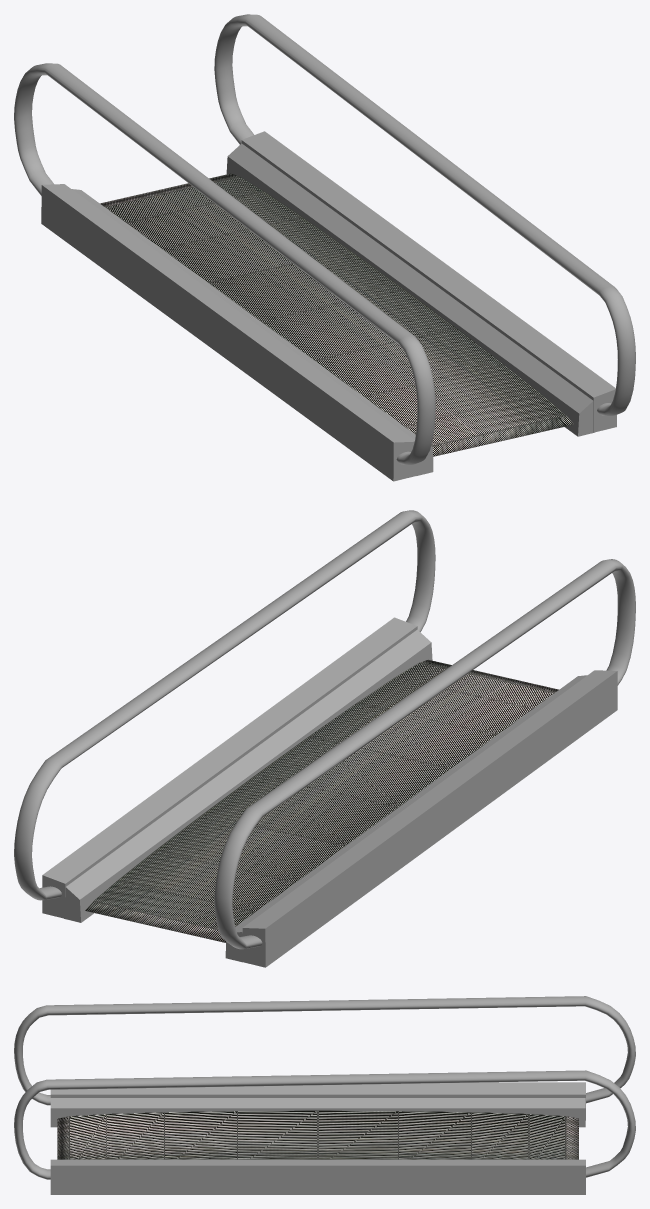
The model's file is Escalator2.fbx.
The picture shows the model from 3 angles, top to bottom: view 1: azimuth 30°, elevation 25°; view 2: azimuth 150°, elevation 25°; view 3: azimuth 270°, elevation 25°; orthographic projection. The views are drawn at different scales.
Visible parts, largest first — view 1: pCylinder1, pCube4, pCylinder2, pCylinder3, pCube1, pCube3, pCube2; view 2: pCylinder1, pCube4, pCylinder2, pCylinder3, pCube1, pCube3, pCube2; view 3: pCylinder1, pCube3, pCylinder2, pCylinder3, pCube2, pCube4.
Boxes of the visible parts, x1=… form: pCylinder1: x1=100, y1=173, x2=573, y2=456; pCube4: x1=41, y1=184, x2=416, y2=481; pCylinder2: x1=214, y1=14, x2=635, y2=415; pCylinder3: x1=14, y1=63, x2=435, y2=464; pCube1: x1=226, y1=143, x2=594, y2=436; pCube3: x1=241, y1=131, x2=616, y2=432; pCube2: x1=72, y1=189, x2=433, y2=475; pCylinder1: x1=85, y1=659, x2=558, y2=942; pCube4: x1=242, y1=670, x2=617, y2=967; pCylinder2: x1=14, y1=510, x2=435, y2=900; pCylinder3: x1=214, y1=559, x2=635, y2=949; pCube1: x1=64, y1=629, x2=432, y2=922; pCube3: x1=42, y1=617, x2=417, y2=918; pCube2: x1=225, y1=675, x2=586, y2=962; pCylinder1: x1=57, y1=1110, x2=578, y2=1159; pCube3: x1=50, y1=1159, x2=585, y2=1194; pCylinder2: x1=14, y1=1070, x2=635, y2=1179; pCylinder3: x1=14, y1=996, x2=635, y2=1105; pCube2: x1=50, y1=1098, x2=585, y2=1127; pCube4: x1=50, y1=1082, x2=585, y2=1120.
Size of the model in its own units: 6.37 by 4.32 by 20.21.
